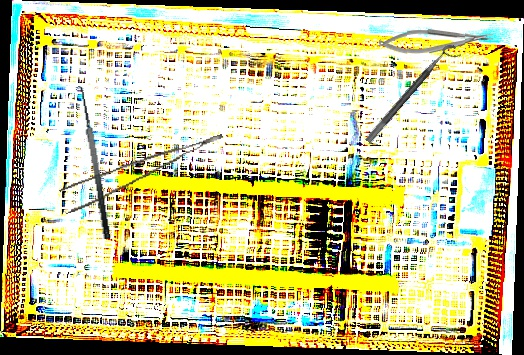Fixation Ring: (364, 41, 463, 151)
Needle Holder: (378, 28, 494, 55)
Spatula Surgical: (68, 84, 113, 242)
Tissue Forceps: (56, 133, 232, 215)
